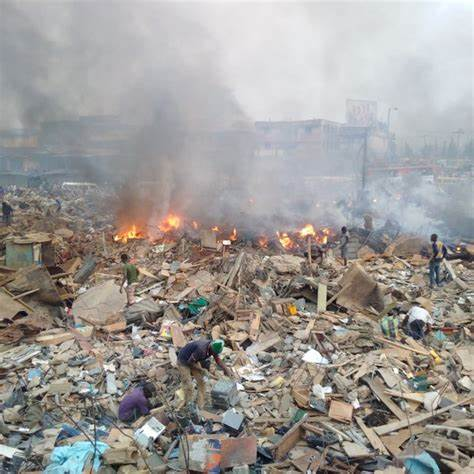smoke: (17, 14, 258, 178), (285, 15, 462, 205)
